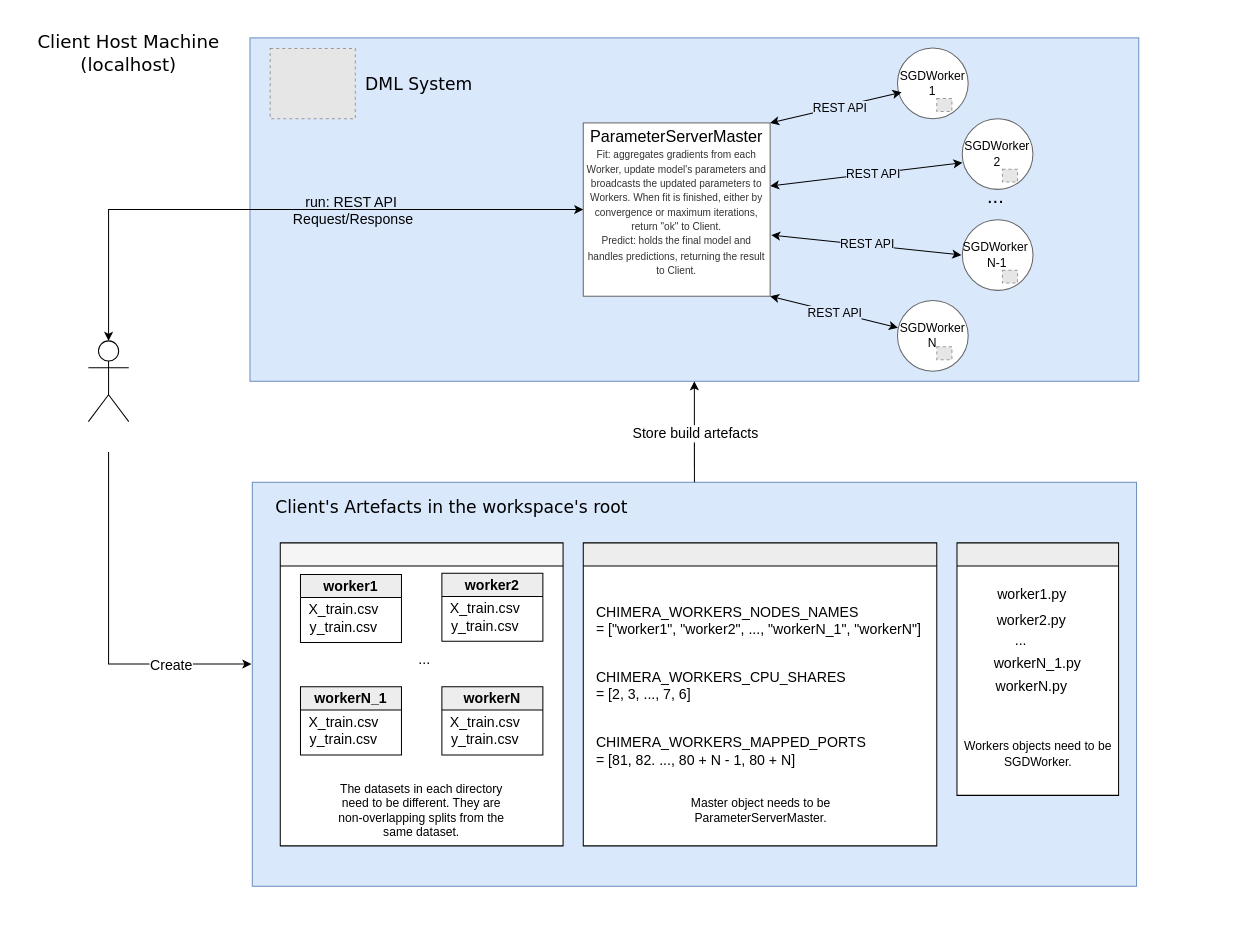
This 1256x943 diagram has some shape labels left out. Grey dashed boxes stand in for pictures. The shapes that lost their labels are listed below. From the top down, each one's box as (x1, y1, x2, y2) in pixels, then its label:
(87, 340, 129, 422): Client
(956, 542, 1119, 795): chimera_workers
(279, 542, 563, 846): chimera_train_data
(582, 542, 937, 846): master.py
